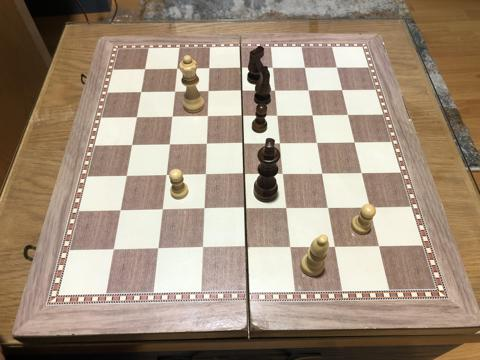xcorner: (268, 61, 280, 73), (203, 62, 215, 74), (171, 63, 183, 75), (139, 63, 151, 75), (338, 83, 350, 95), (304, 83, 316, 95), (270, 84, 282, 96), (203, 85, 215, 97), (169, 86, 181, 98), (135, 86, 147, 98), (344, 108, 356, 120), (308, 108, 320, 120), (273, 109, 285, 121), (202, 110, 214, 122), (166, 111, 178, 123), (350, 135, 362, 147), (313, 136, 325, 148), (276, 137, 288, 149), (238, 137, 250, 149), (201, 138, 213, 150), (318, 167, 330, 179), (239, 168, 251, 180), (200, 169, 212, 181), (160, 170, 172, 182), (366, 200, 378, 212), (324, 201, 336, 213), (282, 202, 294, 214), (241, 203, 253, 215), (157, 204, 169, 216), (115, 205, 127, 217), (375, 239, 387, 251), (331, 240, 343, 252), (153, 243, 165, 255), (333, 60, 344, 72), (300, 61, 312, 72), (236, 62, 248, 73), (237, 110, 249, 121), (131, 112, 143, 123), (164, 139, 175, 151), (126, 140, 138, 151), (358, 166, 369, 178), (279, 168, 291, 179), (121, 171, 133, 182), (199, 204, 211, 215), (286, 241, 298, 252), (242, 242, 254, 253), (198, 242, 209, 254), (109, 244, 120, 256), (237, 85, 248, 96)
